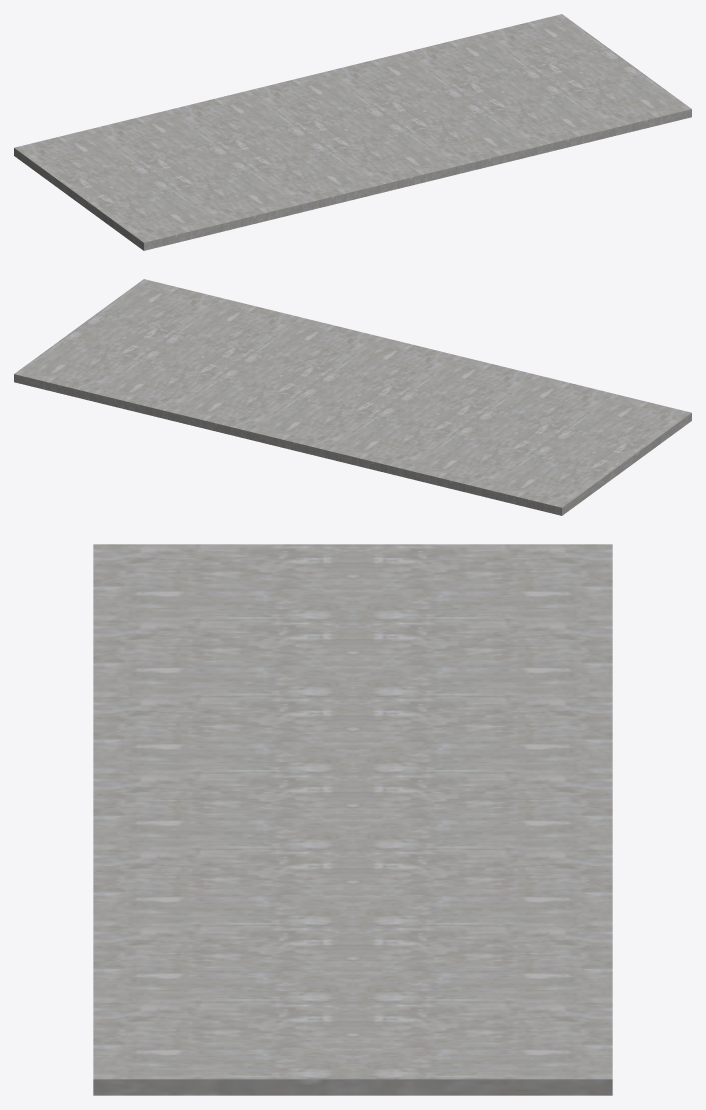
The model's file is willage small road.fbx.
The picture shows the model from 3 angles, top to bottom: view 1: azimuth 30°, elevation 25°; view 2: azimuth 150°, elevation 25°; view 3: azimuth 270°, elevation 25°; orthographic projection. The views are drawn at different scales.
Visible parts, largest first — view 1: Cube; view 2: Cube; view 3: Cube.
Part boxes in pixels (bbox=[...]): Cube: bbox=[14, 14, 691, 250]; Cube: bbox=[14, 279, 691, 515]; Cube: bbox=[93, 544, 612, 1095].
Bounding box in the file's own units: 1400 × 19.86 × 575.
Materials: 1 (1 with a texture image).
